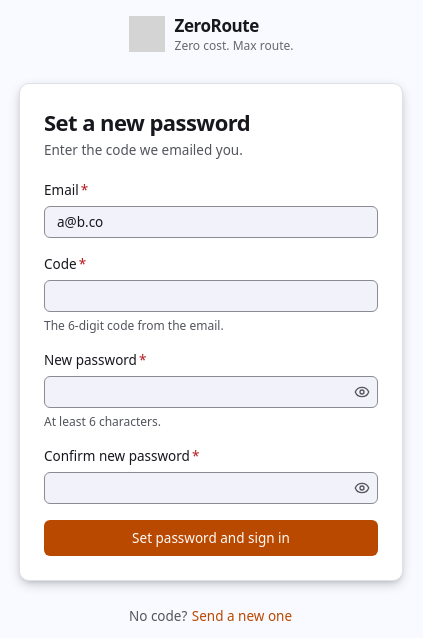
Test case: prefills the email and keeps only digits in the code
Expected: the field labelled "Email*" holds "a@b.co", [44, 206, 378, 238]
Type "12ab3456" into the field labelled "Code*".
click(211, 296); type("12ab3456")  # box [44, 280, 378, 312]
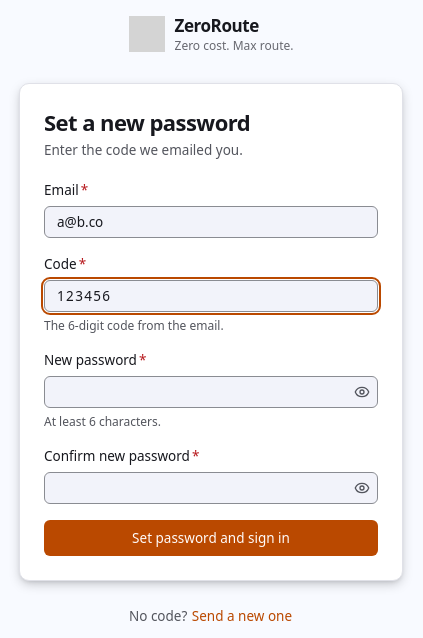
Type "secret1" into the password field labelled "New password*".
click(211, 392); type("secret1")  # box [44, 376, 378, 408]
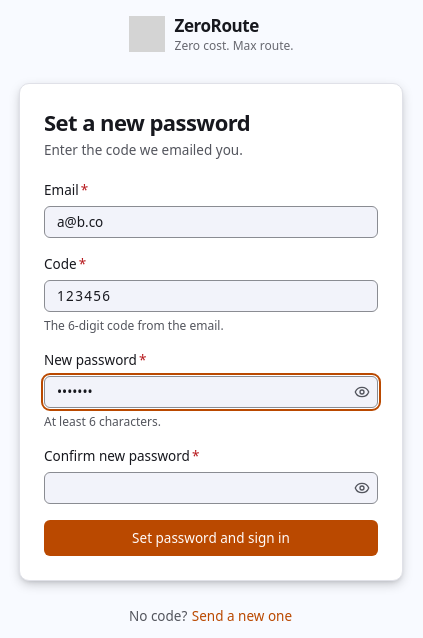
Type "secret1" into the password field labelled "Confirm new password*".
click(211, 488); type("secret1")  # box [44, 472, 378, 504]
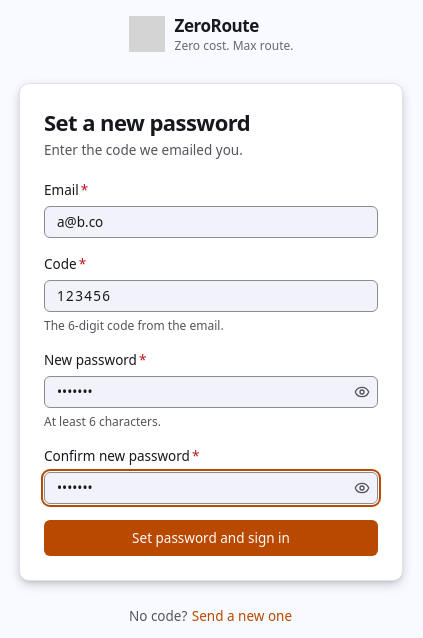
Click the button "Set password and sign in".
click(211, 538)  # box [44, 520, 378, 556]
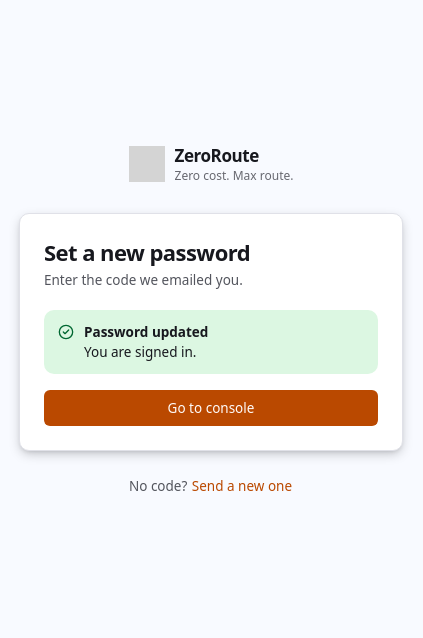
Expected: the text "Password updated" is shown, [84, 322, 208, 340]
